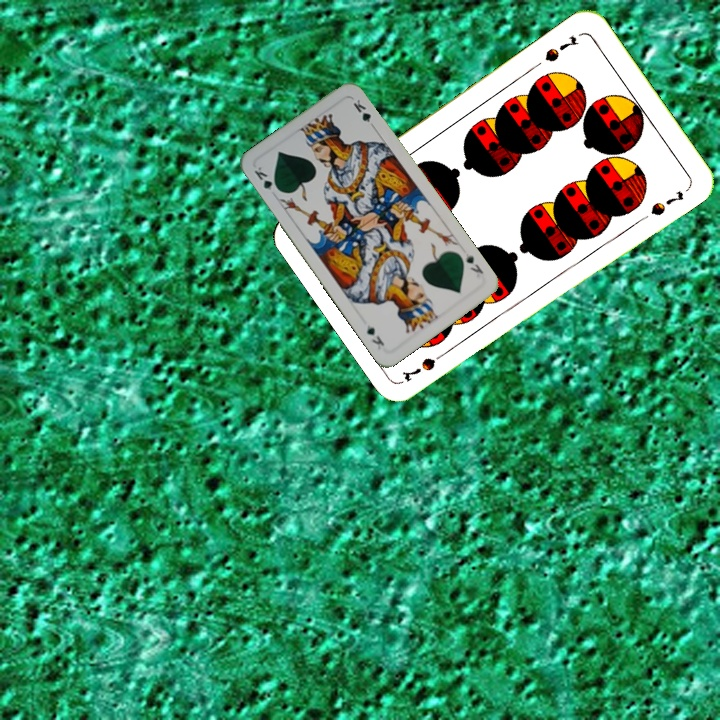GK: (250, 162, 283, 195), (461, 249, 486, 280)
S7: (398, 345, 452, 384), (540, 31, 582, 65)
